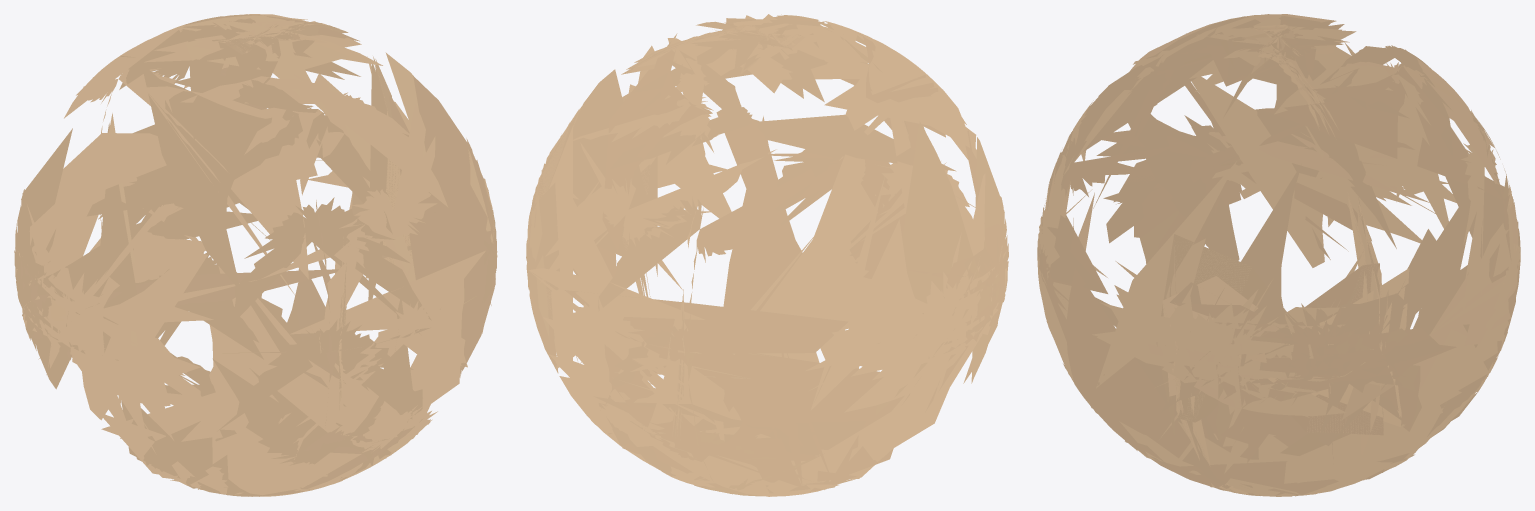
The model's file is launch_cradle.glb.
The picture shows the model from 3 angles, left to right: view 1: azimuth 30°, elevation 25°; view 2: azimuth 150°, elevation 25°; view 3: azimuth 270°, elevation 25°; orthographic projection.
Visible parts, largest first — view 1: launch_cradle; view 2: launch_cradle; view 3: launch_cradle.
Boxes of the visible parts, x1,y1,x2,y2 form: launch_cradle: (14, 14, 497, 496); launch_cradle: (526, 14, 1008, 496); launch_cradle: (1037, 14, 1520, 496).
Bounding box in the file's own units: 2 × 2 × 2.
